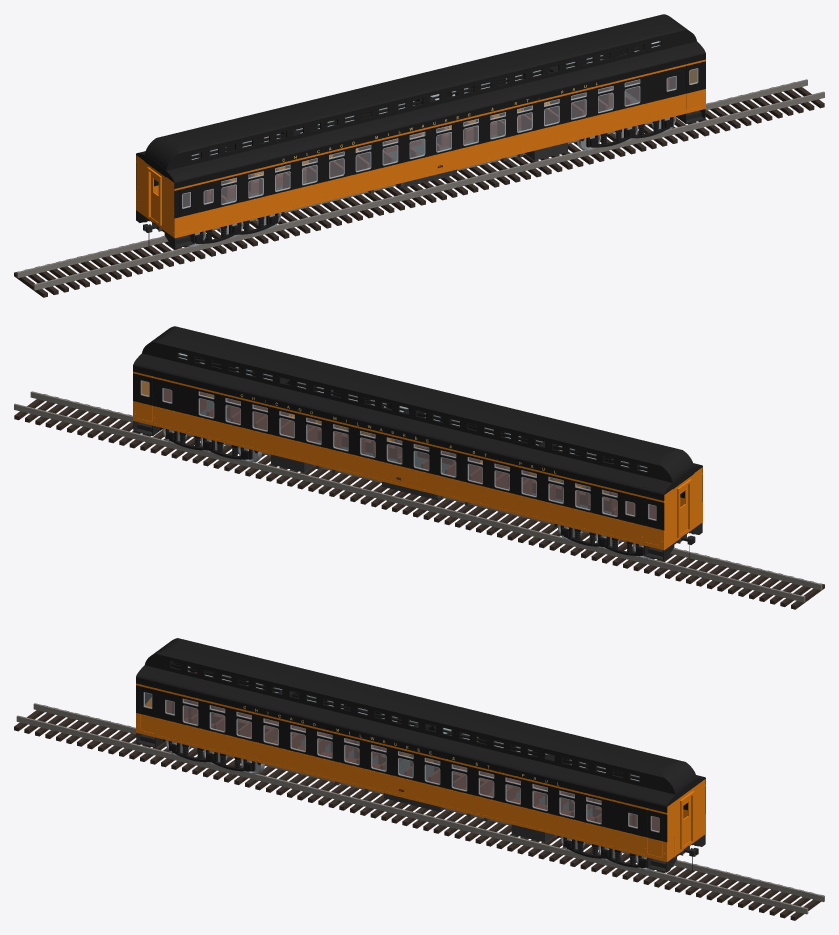
The model's file is MR1927_Coach436.glb.
3 views of the same model, one above another, from view 1: azimuth 30°, elevation 25°; view 2: azimuth 150°, elevation 25°; view 3: azimuth 330°, elevation 25° (orthographic).
Parts seen in each view (by area): view 1: roof, orange, maroon, ties, rails, glass, interior, rims, trucks, equipment, steps, wheels (+1 smaller); view 2: roof, orange, maroon, ties, rails, glass, interior, rims, trucks, equipment, steps, wheels (+1 smaller); view 3: roof, orange, maroon, ties, rails, glass, interior, rims, trucks, equipment, floor, steps (+1 smaller).
Boxes of the visible parts, x1,y1,x2,y2 form: roof: [136, 14, 705, 182]; orange: [136, 59, 705, 238]; maroon: [136, 41, 705, 218]; ties: [14, 82, 824, 297]; rails: [16, 79, 824, 290]; glass: [182, 41, 697, 207]; interior: [182, 49, 675, 207]; rims: [182, 41, 698, 208]; trucks: [194, 115, 678, 243]; equipment: [395, 142, 567, 188]; steps: [136, 109, 705, 248]; wheels: [187, 116, 675, 246]; roof: [133, 326, 702, 494]; orange: [133, 371, 702, 550]; maroon: [133, 353, 702, 530]; ties: [14, 394, 824, 609]; rails: [14, 391, 822, 602]; glass: [141, 353, 656, 519]; interior: [163, 388, 656, 519]; rims: [140, 353, 656, 520]; trucks: [160, 427, 644, 555]; equipment: [271, 454, 443, 500]; steps: [133, 421, 702, 560]; wheels: [163, 428, 651, 558]; roof: [136, 638, 705, 806]; orange: [136, 661, 705, 862]; maroon: [136, 661, 705, 842]; ties: [14, 705, 823, 920]; rails: [16, 703, 824, 914]; glass: [144, 666, 658, 831]; interior: [166, 672, 658, 831]; rims: [143, 667, 659, 832]; trucks: [163, 739, 646, 867]; equipment: [384, 793, 554, 842]; floor: [211, 719, 690, 855]; steps: [136, 733, 705, 872].
Size of the model in its own units: 1.22 by 0.1609 by 0.1048.
